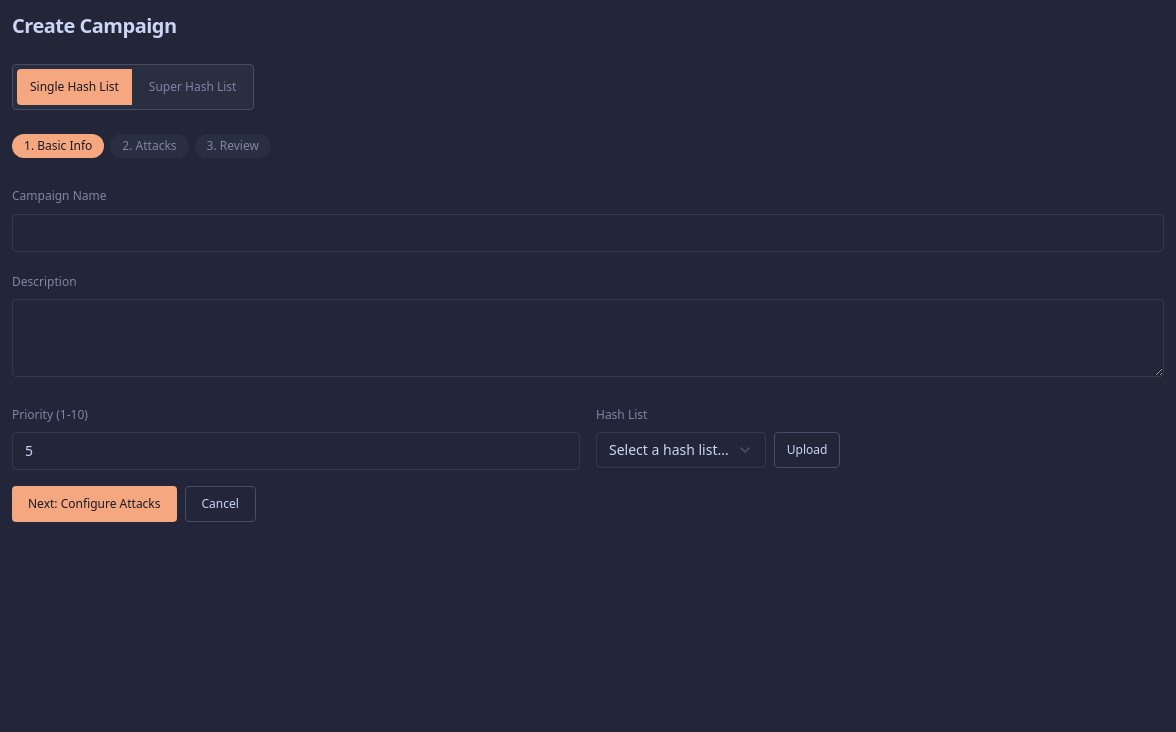
CampaignCreatePage — super target › shows a Load more control and fetches the next page when supers span more than one page
Expected: the heading "Create Campaign" is shown, [12,12,177,39]
Click the radio button "Super Hash List" at {"x": 193, "y": 87}, box [136,69,249,105]
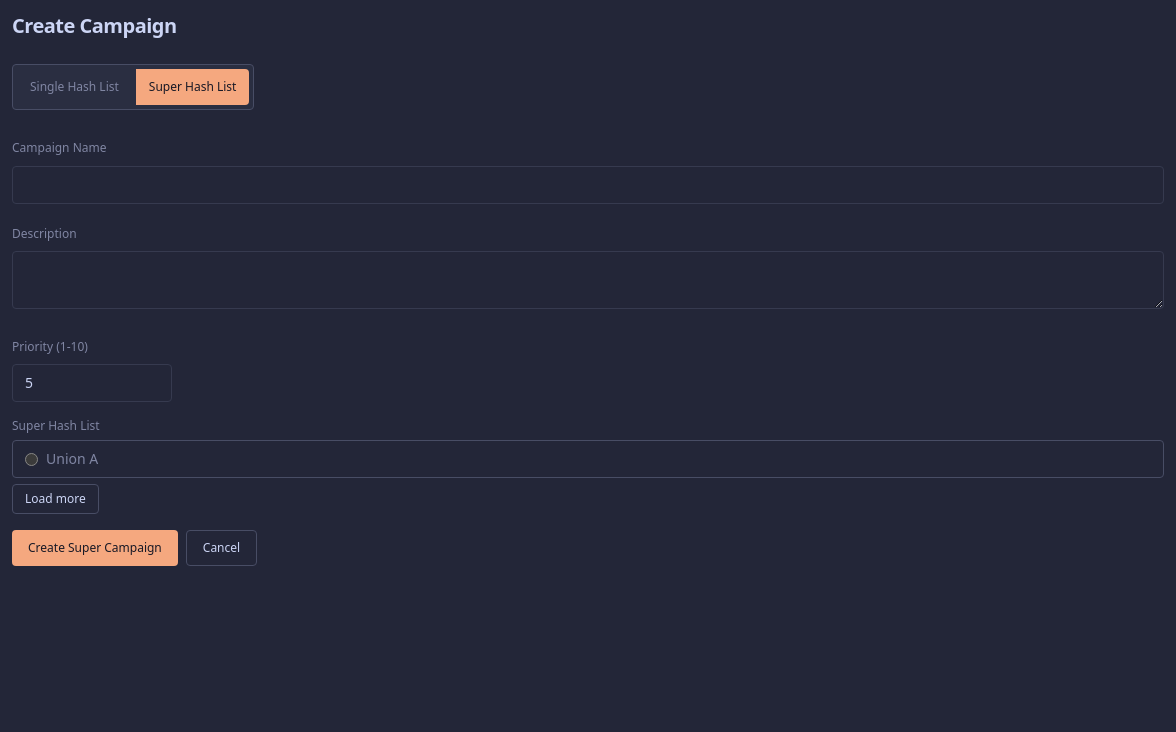
Expected: the radio button labelled "Union B" is not shown
Result: the radio button labelled "Union A" is shown at [25,453,38,466]
Result: the button "Load more" is shown
Click the button "Load more" at {"x": 55, "y": 499}, box [12,484,99,514]
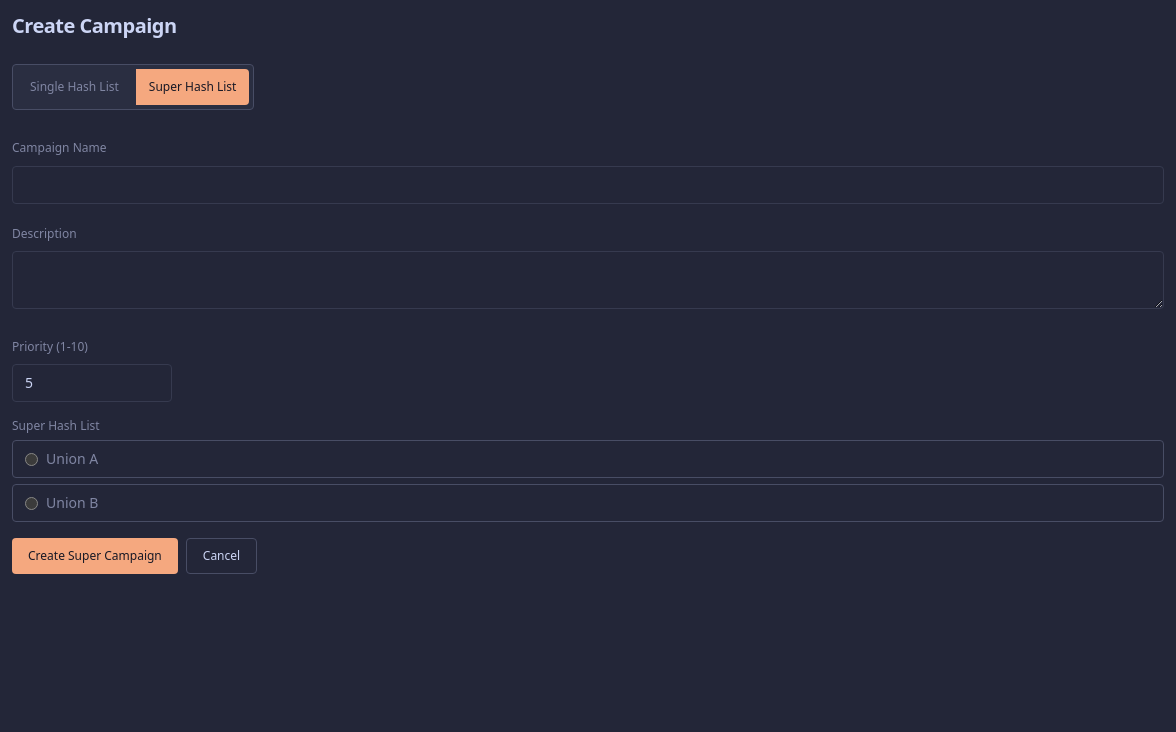
Result: the radio button labelled "Union A" is shown at [25,453,38,466]
Result: the radio button labelled "Union B" is shown at [25,497,38,510]
